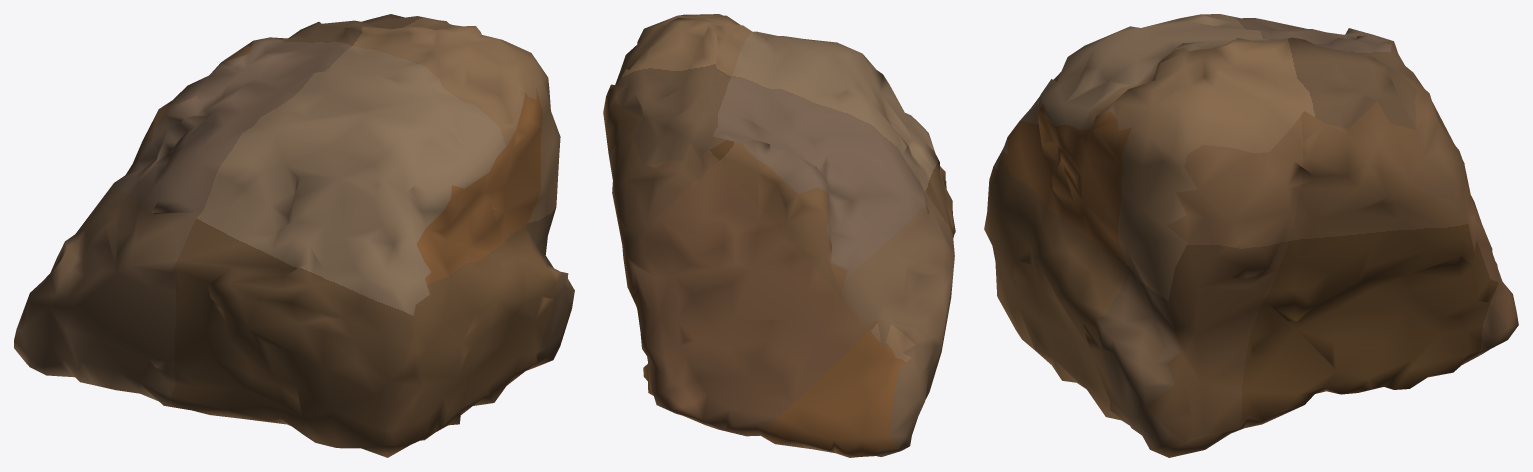
File: ph_boulder_3.glb
3 renders of one model, left to right at view 1: azimuth 30°, elevation 25°; view 2: azimuth 150°, elevation 25°; view 3: azimuth 270°, elevation 25°, orthographic. The views are drawn at different scales.
Visible parts, largest first — view 1: ph_boulder_3_lod1; view 2: ph_boulder_3_lod1; view 3: ph_boulder_3_lod1.
Boxes of the visible parts, <box> form: ph_boulder_3_lod1: <box>14,14,574,457</box>; ph_boulder_3_lod1: <box>603,14,955,457</box>; ph_boulder_3_lod1: <box>984,14,1518,457</box>.
Bounding box in the file's own units: 2.52 × 1.9 × 2.5.
Materials: 1 (1 with a texture image).
